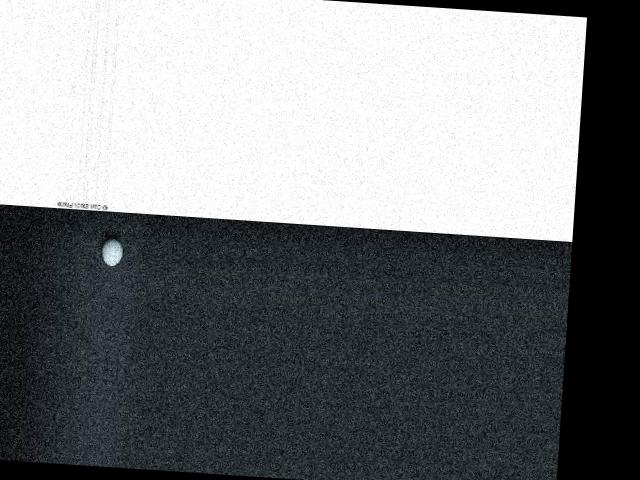egg: (100, 237, 123, 266)
